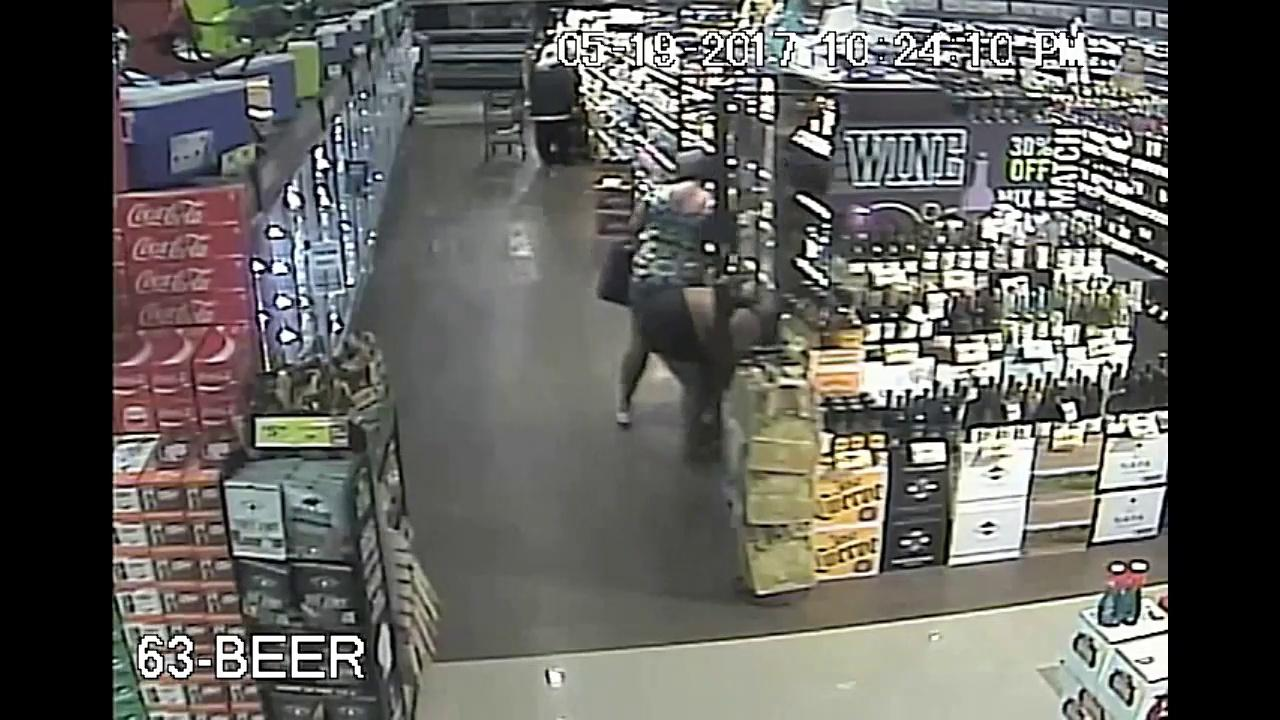Customer-Bagpack: (570, 240, 640, 307)
Regular: (503, 33, 588, 160)
Shoplifting: (614, 270, 811, 449), (590, 132, 781, 256)
